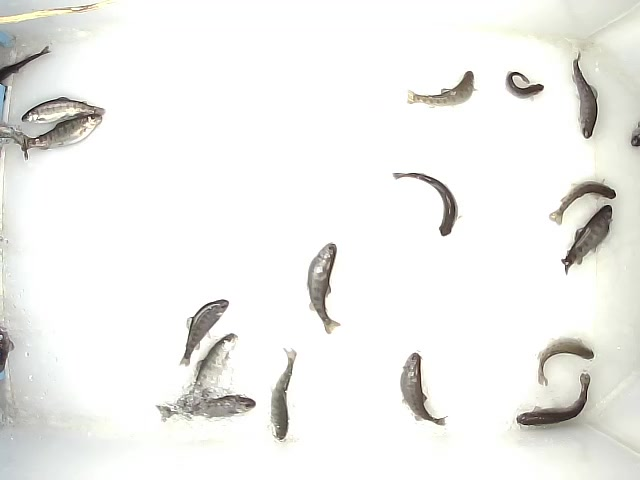fish: (391, 170, 463, 237), (516, 372, 591, 429), (398, 351, 451, 428), (560, 202, 614, 276), (187, 332, 240, 405), (305, 241, 343, 337), (179, 298, 230, 367), (547, 178, 618, 226), (154, 393, 256, 426), (20, 113, 104, 153), (536, 333, 596, 388), (404, 69, 479, 109), (269, 345, 299, 442), (570, 48, 601, 140), (21, 95, 107, 125), (1, 44, 53, 83), (504, 70, 547, 100)
